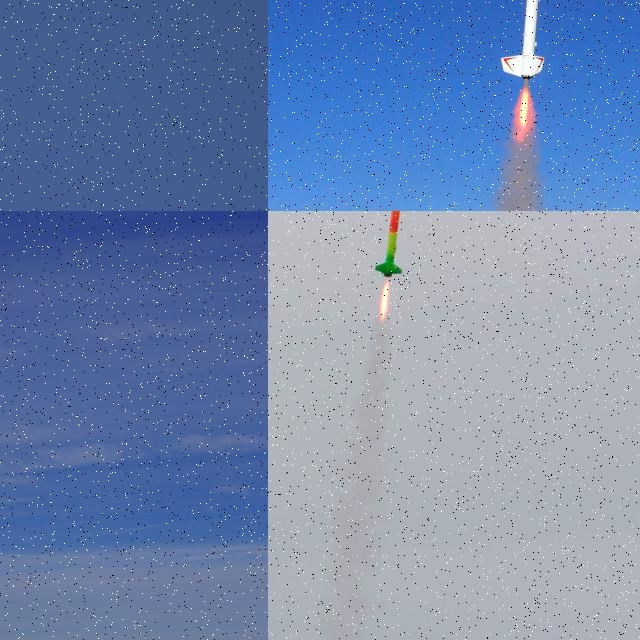Rocket: (501, 0, 546, 79), (374, 211, 403, 278)
